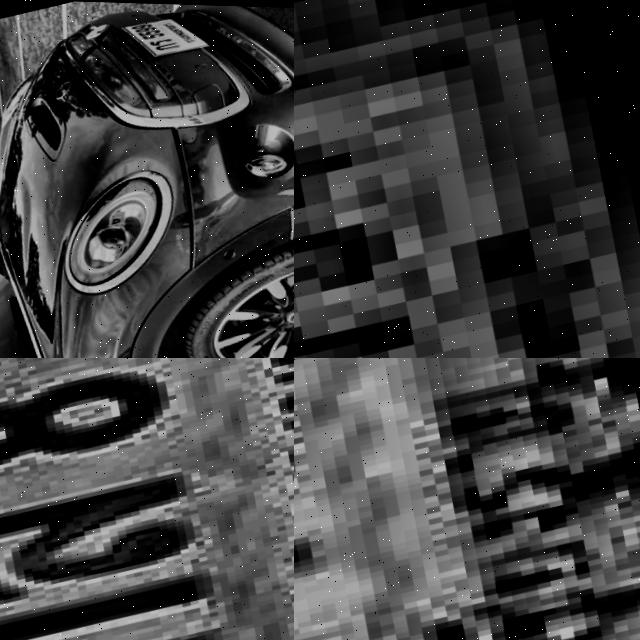license-plate: (294, 0, 640, 358), (294, 358, 640, 640), (0, 358, 294, 640), (115, 2, 215, 66)
